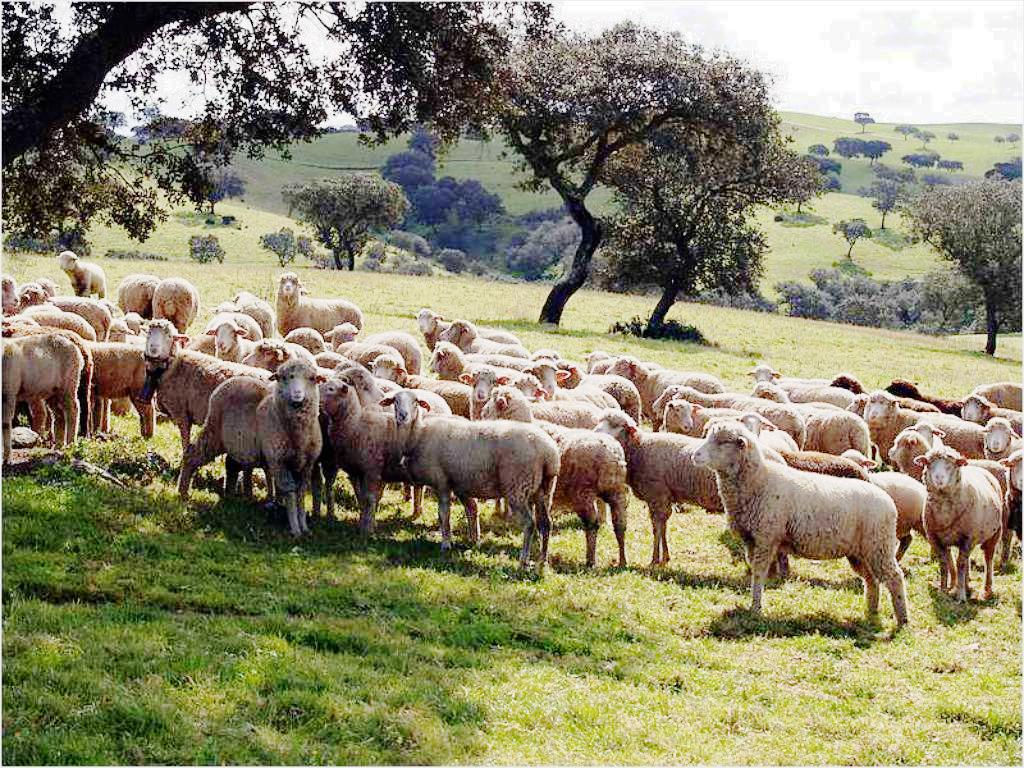Sheep: (692, 419, 910, 631), (593, 412, 790, 572), (384, 390, 556, 568), (480, 385, 634, 569), (138, 317, 276, 502), (198, 355, 320, 535), (316, 375, 439, 539), (914, 444, 1005, 604), (832, 448, 938, 564), (0, 334, 91, 466), (70, 338, 157, 443), (856, 391, 972, 469), (601, 356, 720, 428), (367, 353, 475, 418), (649, 381, 774, 431), (276, 272, 364, 342), (664, 397, 787, 446), (499, 380, 612, 433), (788, 402, 872, 462), (412, 307, 524, 349), (2, 299, 98, 343), (330, 331, 410, 378), (439, 316, 532, 356), (998, 445, 1024, 587), (47, 287, 112, 343), (880, 375, 960, 415), (150, 278, 203, 336), (959, 392, 1024, 438), (330, 364, 395, 410), (761, 380, 853, 412), (746, 361, 835, 394), (202, 312, 264, 358), (56, 250, 110, 300), (224, 290, 276, 340), (242, 336, 310, 374), (974, 417, 1024, 468), (453, 348, 536, 378), (946, 380, 1024, 411), (207, 302, 264, 341), (116, 274, 162, 321), (428, 341, 470, 383), (17, 274, 54, 313), (891, 396, 945, 414), (0, 270, 20, 318), (828, 373, 866, 395), (582, 352, 616, 376), (529, 348, 563, 364), (640, 362, 662, 372)
